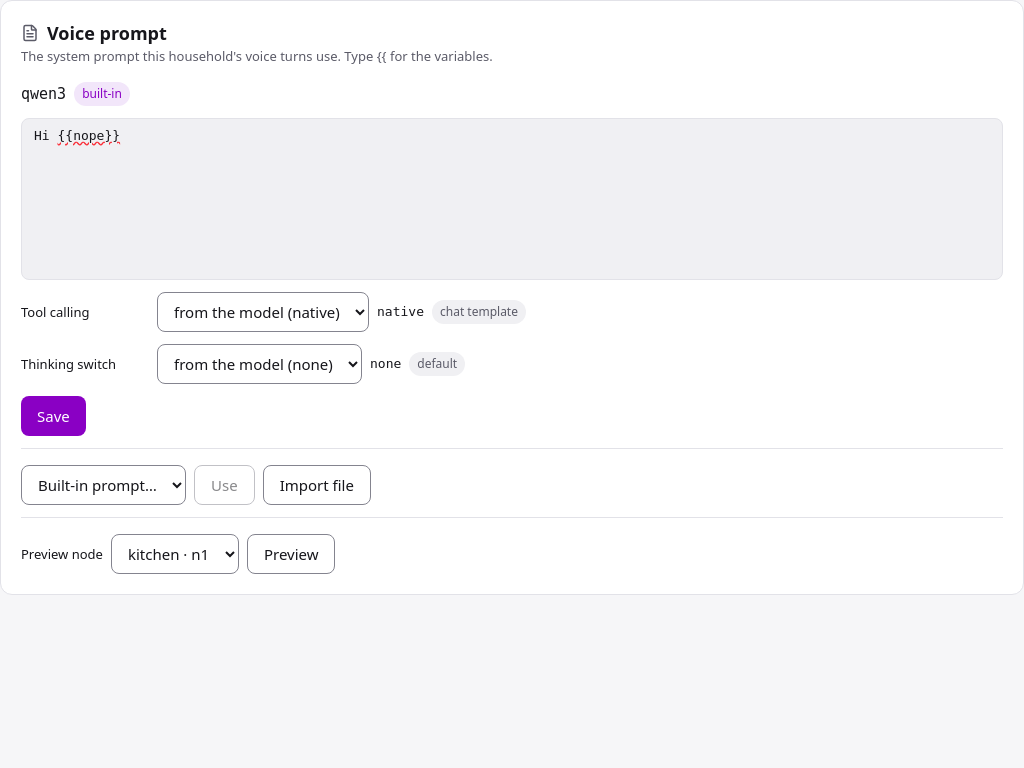
PromptEditorCard › shows a 400's detail
The image size is (1024, 768).
Step 1. Click the button "Save" → (53, 416), box [21, 396, 86, 436]
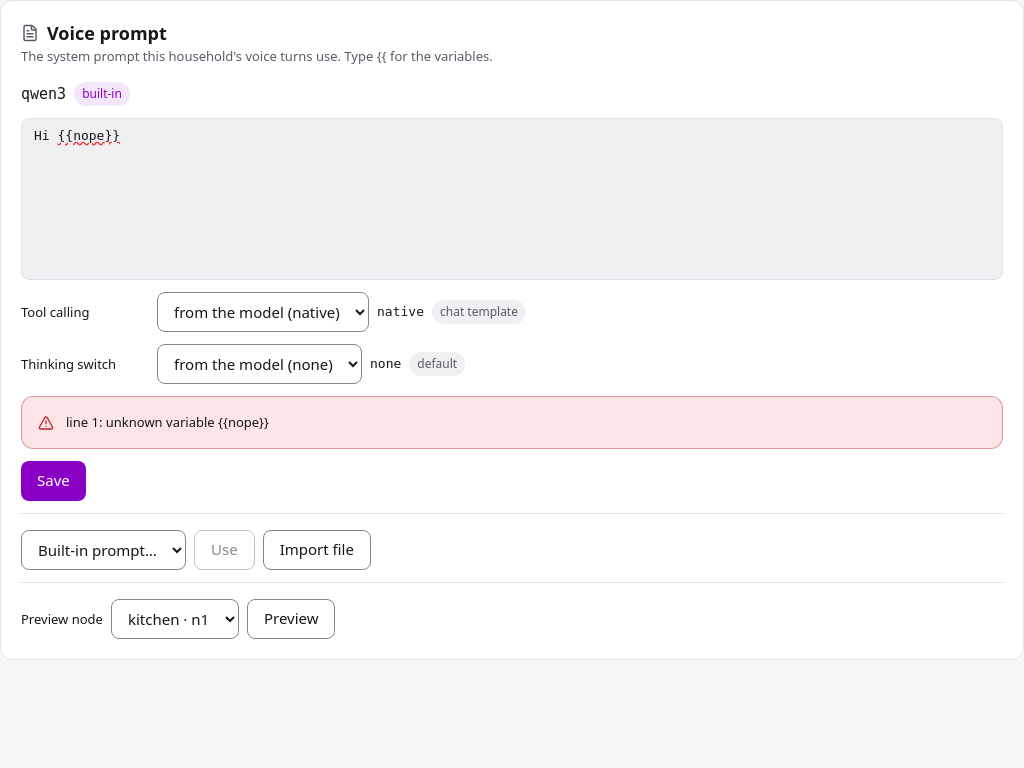
expect the text "line 1: unknown variable {{nope}}" is shown: met, box [66, 413, 269, 432]
